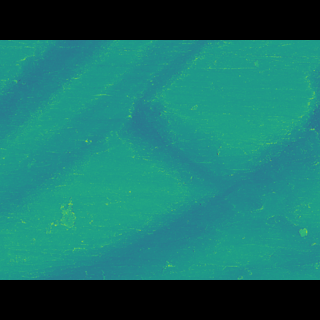Loch: (103, 154, 319, 250), (179, 86, 320, 177), (0, 69, 118, 142)
